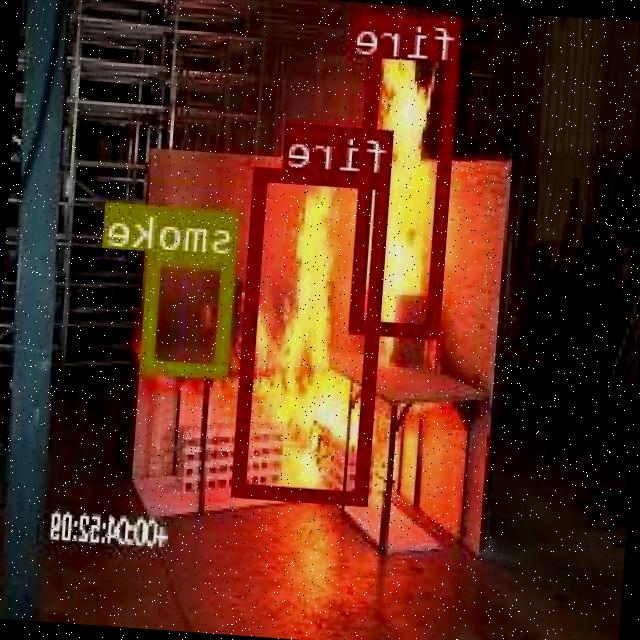fire: (235, 165, 392, 504), (354, 9, 464, 337)
smoke: (142, 249, 236, 376)
